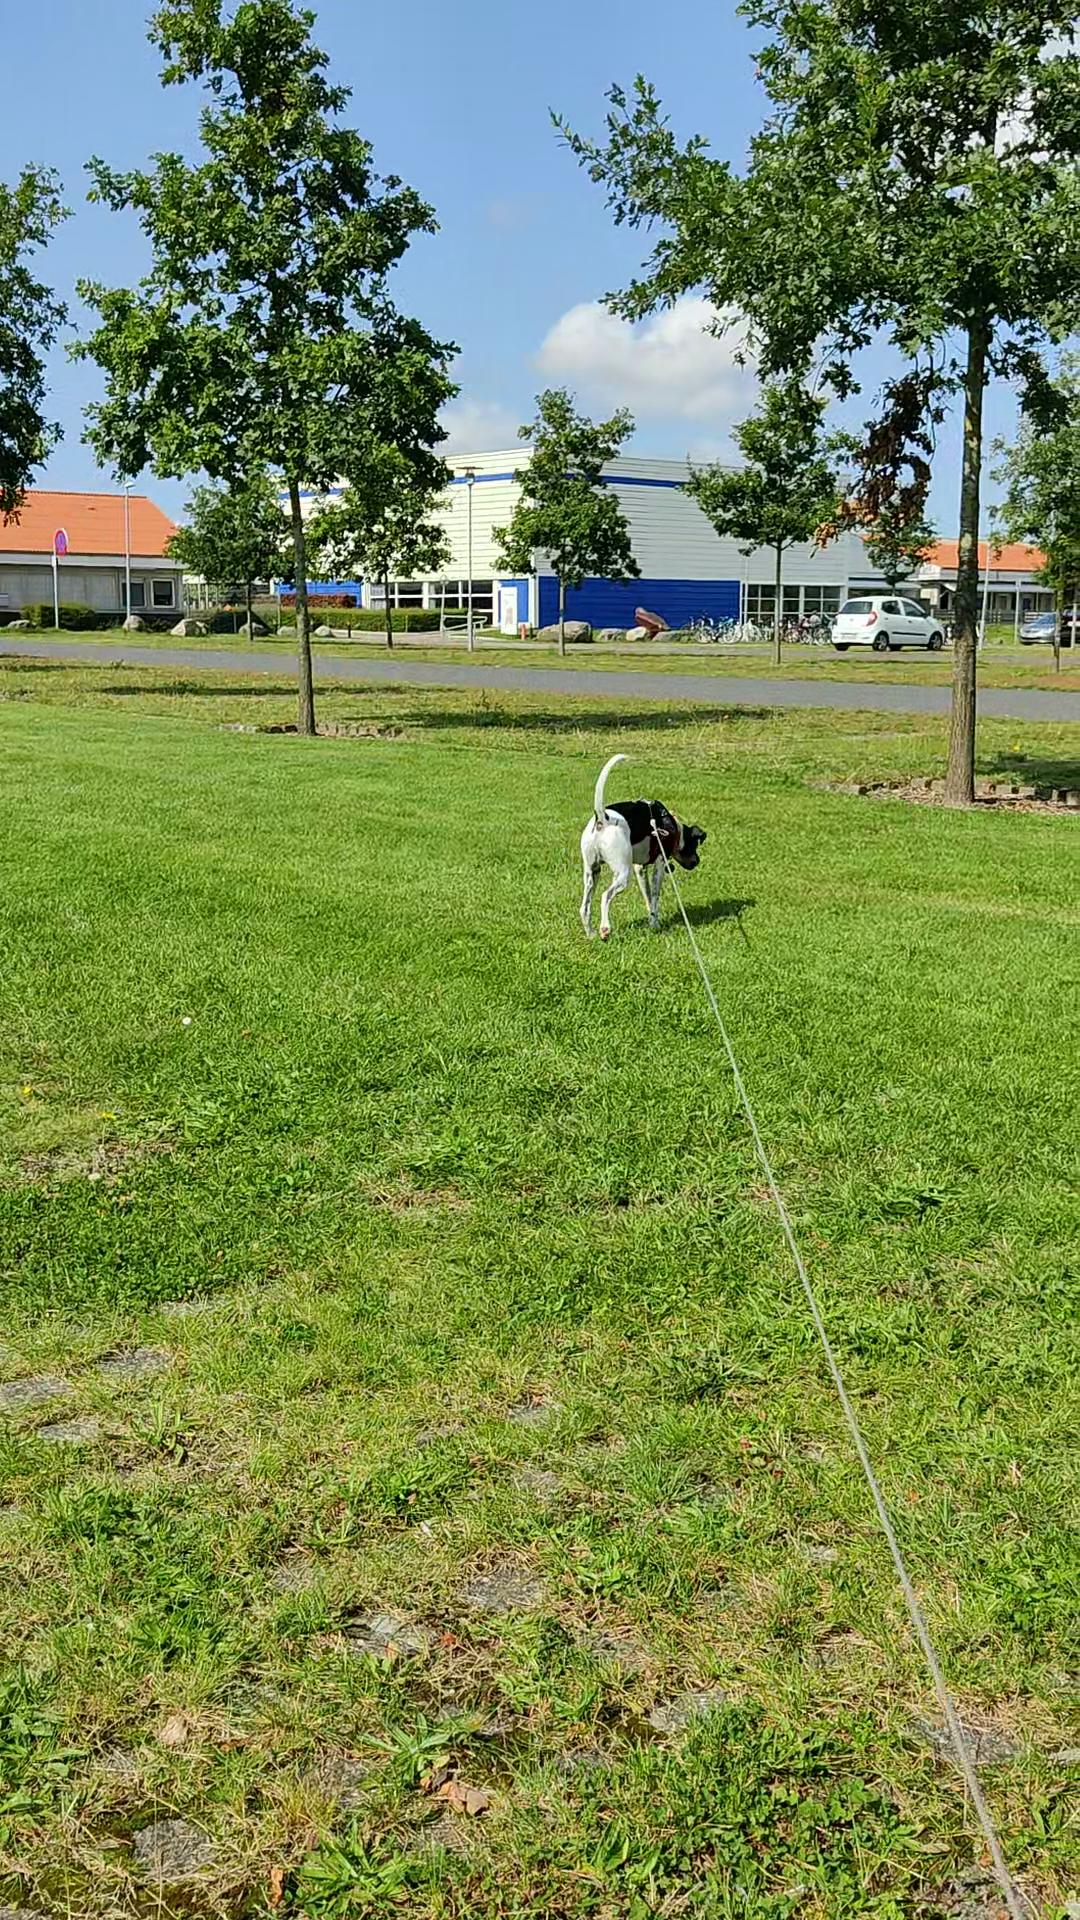Dog: (568, 749, 709, 945)
